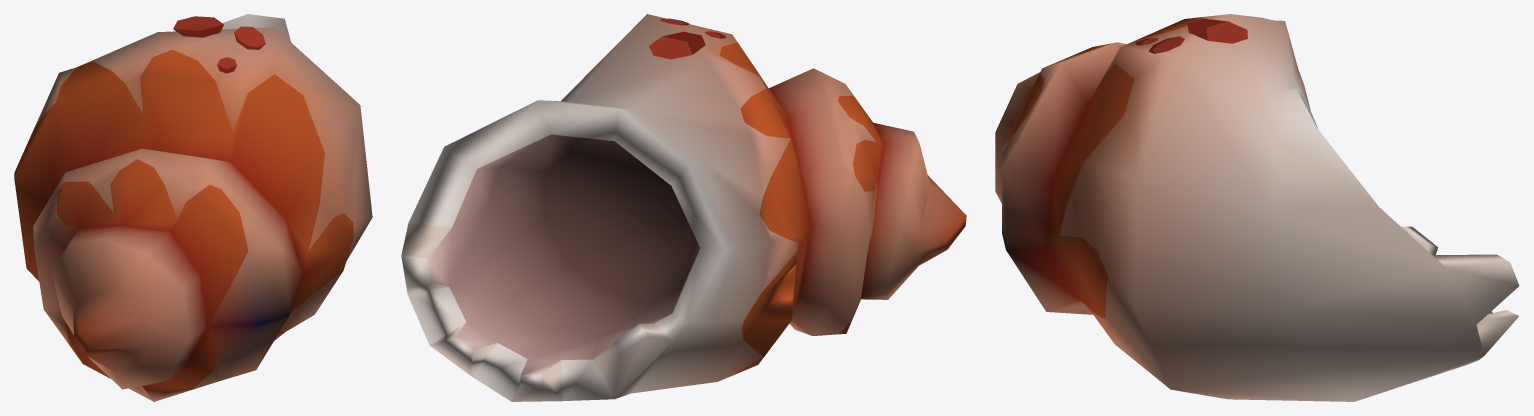
The model's file is ConchEmpty.fbx.
The picture shows the model from 3 angles, left to right: view 1: azimuth 30°, elevation 25°; view 2: azimuth 150°, elevation 25°; view 3: azimuth 270°, elevation 25°; orthographic projection. The views are drawn at different scales.
Visible parts, largest first — view 1: ConchEmpty; view 2: ConchEmpty; view 3: ConchEmpty.
Part boxes in pixels (x1,y1,x2,y2): ConchEmpty: (14,14,372,401); ConchEmpty: (401,14,966,401); ConchEmpty: (995,14,1519,401).
Bounding box in the file's own units: 35.39 × 30.94 × 40.62.
